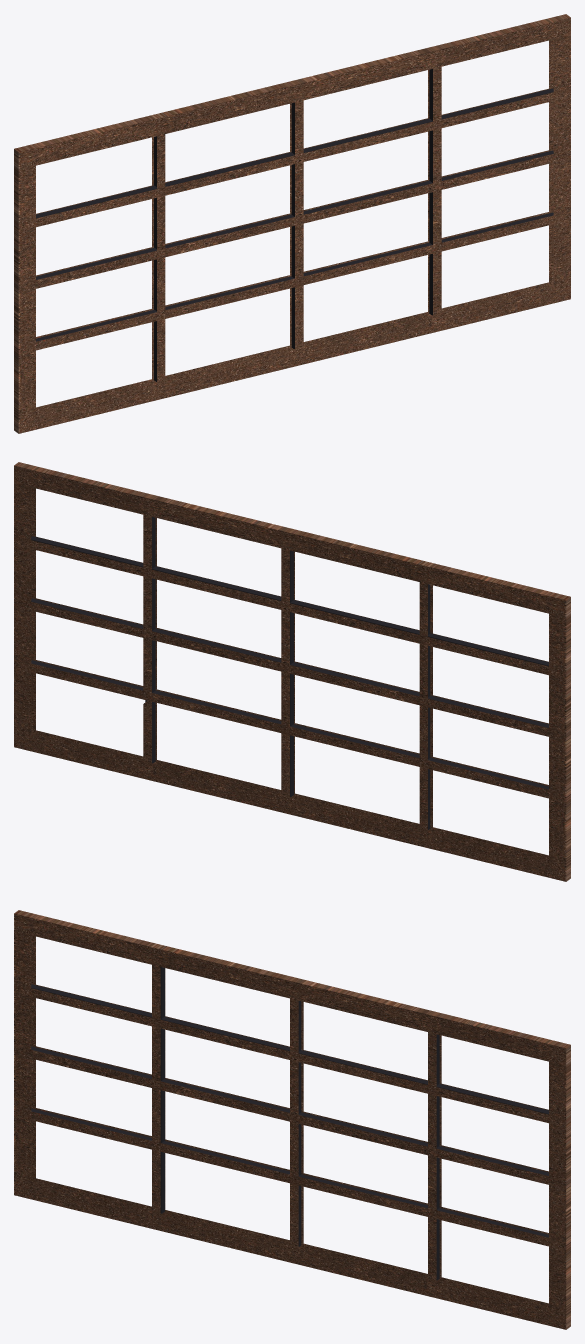
3 renders of one model, top to bottom at view 1: azimuth 30°, elevation 25°; view 2: azimuth 150°, elevation 25°; view 3: azimuth 330°, elevation 25°, orthographic.
Visible parts, largest first — view 1: PT_pasted__group35_pasted__pasted__group33_pasted__pasted__paste; view 2: PT_pasted__group35_pasted__pasted__group33_pasted__pasted__paste; view 3: PT_pasted__group35_pasted__pasted__group33_pasted__pasted__paste.
Part boxes in pixels (x1,y1,x2,y2): PT_pasted__group35_pasted__pasted__group33_pasted__pasted__paste: (14,14,570,433); PT_pasted__group35_pasted__pasted__group33_pasted__pasted__paste: (14,462,570,881); PT_pasted__group35_pasted__pasted__group33_pasted__pasted__paste: (14,910,570,1329).
Bounding box in the file's own units: 8.39 × 4.09 × 0.126.
7 materials, 7 textured.
